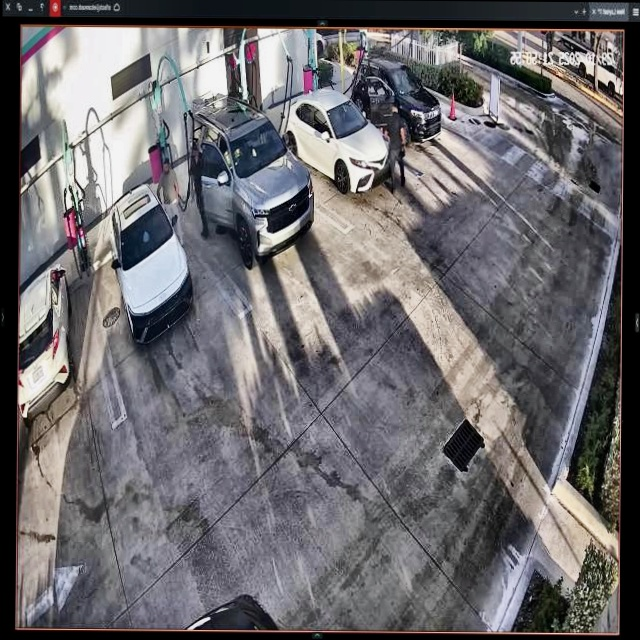Car: (189, 96, 312, 266), (109, 187, 190, 346), (282, 89, 391, 192), (352, 58, 442, 142)
